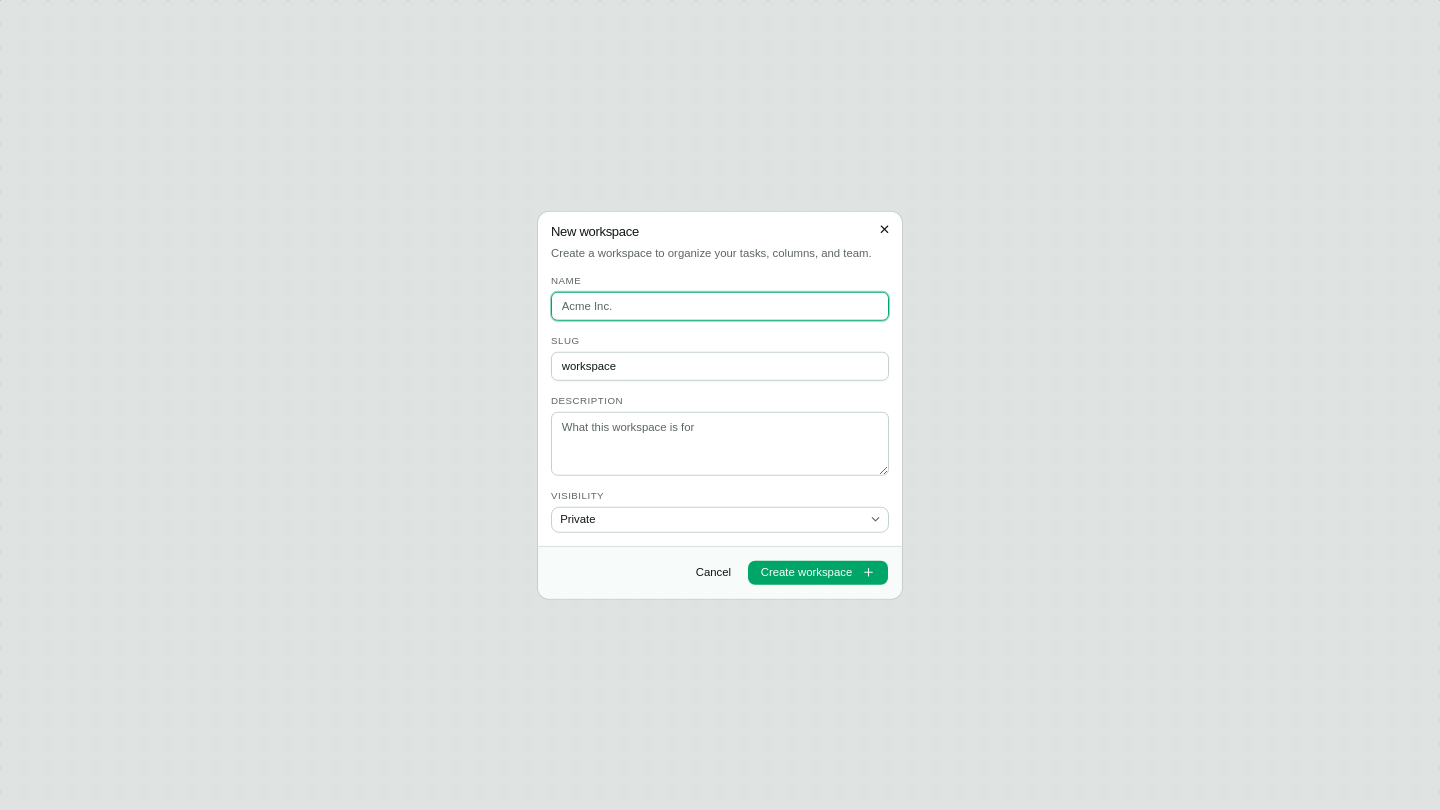
Test case: WorkspaceCreateDialog › auto-generates slug from name as user types
Type "My Cool Workspace" into the field labelled "Name" at (720,306), box [551,291,889,321]
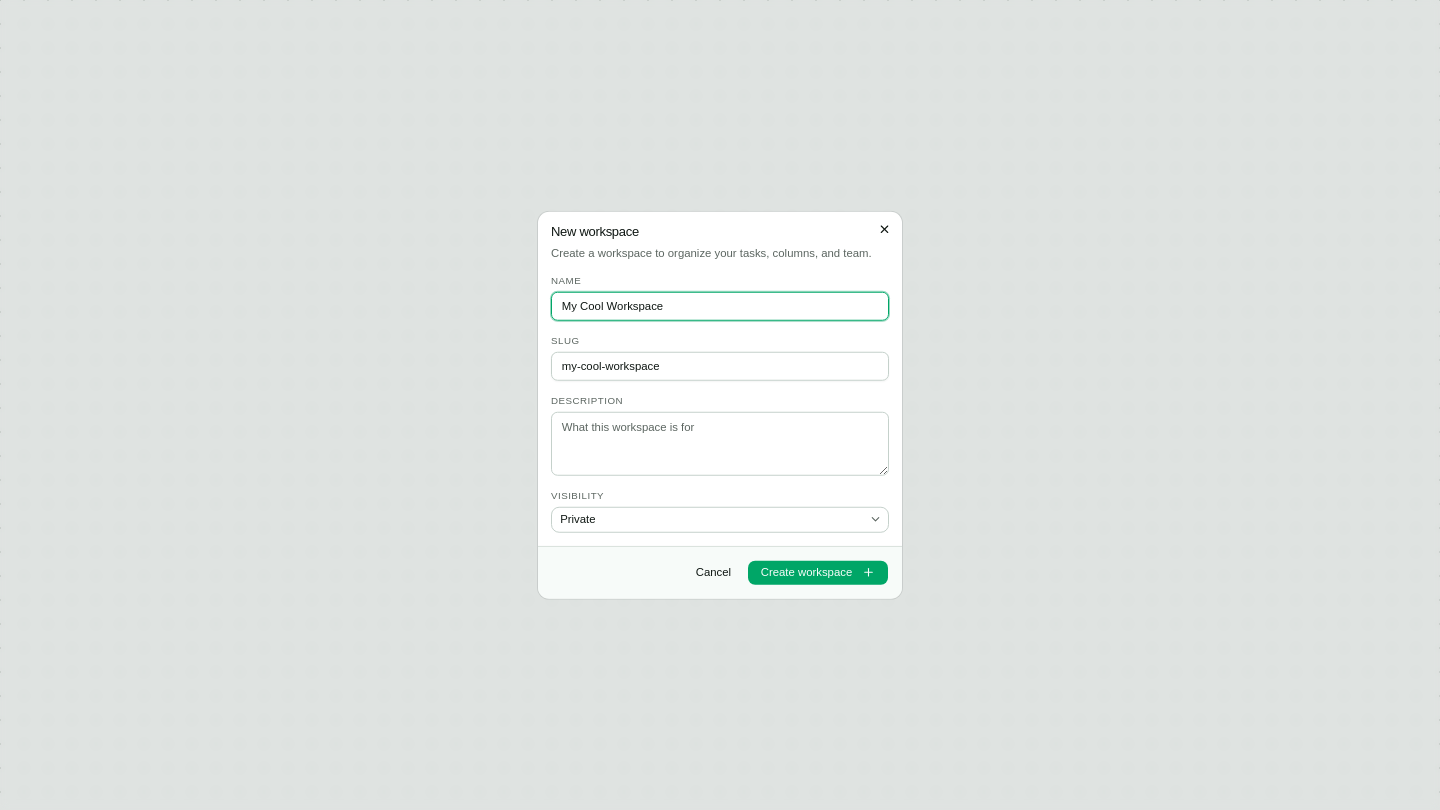
Expected: the field labelled "Slug" holds "my-cool-workspace", [551,352,889,381]
